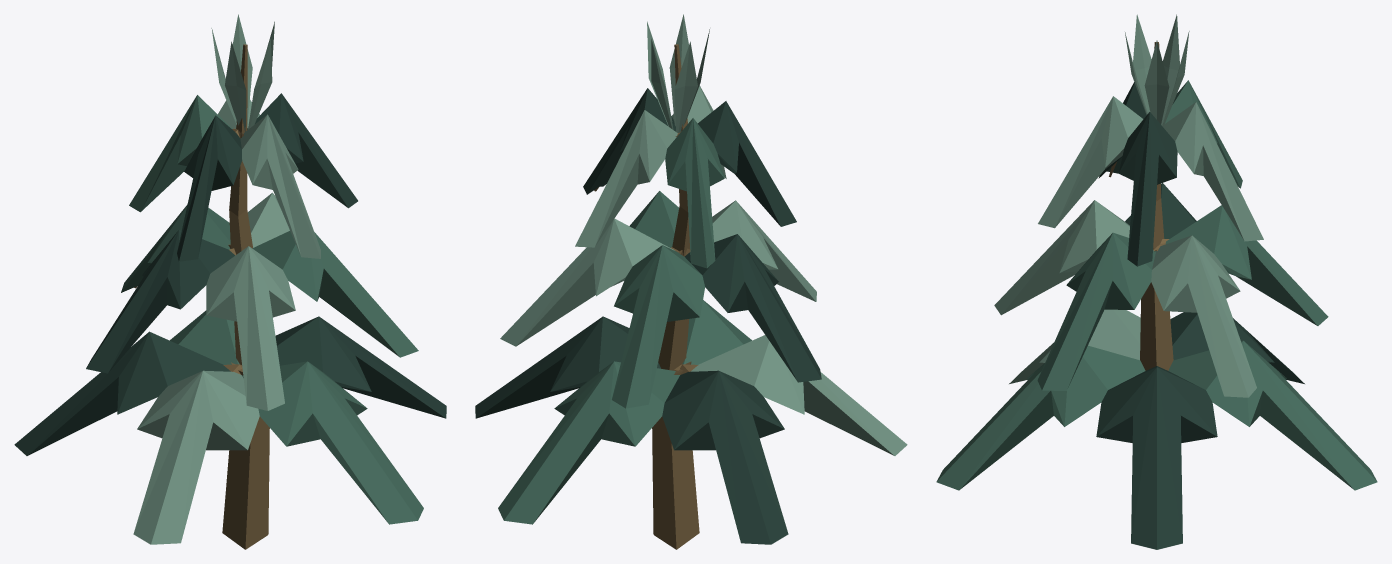
Rendered from ALPINE_DWARF_PINE.shadow.glb.
3 renders of one model, left to right at view 1: azimuth 30°, elevation 25°; view 2: azimuth 150°, elevation 25°; view 3: azimuth 270°, elevation 25°, orthographic.
Visible parts, largest first — view 1: ALPINE_DWARF_PINE; view 2: ALPINE_DWARF_PINE; view 3: ALPINE_DWARF_PINE.
Boxes of the visible parts, <box> form: ALPINE_DWARF_PINE: <box>14,14,446,549</box>; ALPINE_DWARF_PINE: <box>475,14,907,549</box>; ALPINE_DWARF_PINE: <box>936,14,1377,549</box>.
Bounding box in the file's own units: 0.6828 × 0.9122 × 0.7133.
1 material, 1 textured.
